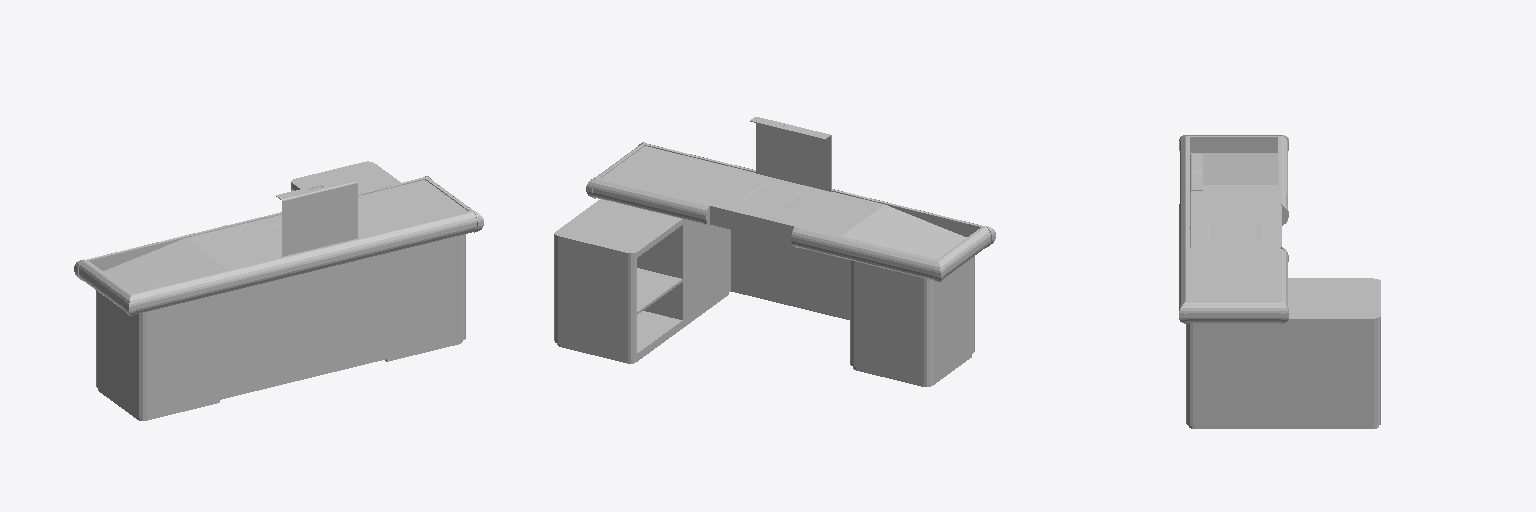
The model's file is cassagh.obj.
3 renders of one model, left to right at view 1: azimuth 30°, elevation 25°; view 2: azimuth 150°, elevation 25°; view 3: azimuth 270°, elevation 25°, orthographic.
Visible parts, largest first — view 1: Plane.003_Plane.007; view 2: Plane.003_Plane.007; view 3: Plane.003_Plane.007.
Part boxes in pixels (bbox=[...]): Plane.003_Plane.007: bbox=[74, 161, 483, 420]; Plane.003_Plane.007: bbox=[554, 117, 995, 386]; Plane.003_Plane.007: bbox=[1179, 135, 1380, 428].
Bounding box in the file's own units: 26.16 × 13.13 × 12.95.